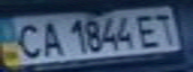1: (63, 16, 87, 54)
4: (115, 12, 139, 51), (100, 15, 121, 52)
8: (81, 16, 103, 53)
A: (33, 18, 66, 56)
C: (6, 20, 45, 61)
E: (133, 11, 163, 48)
T: (151, 9, 181, 45)
